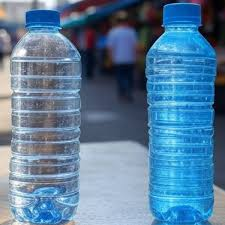Botella: (10, 12, 81, 223), (147, 4, 215, 219)
